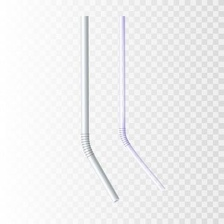drinking_straw: (113, 12, 170, 193), (74, 12, 122, 206)
